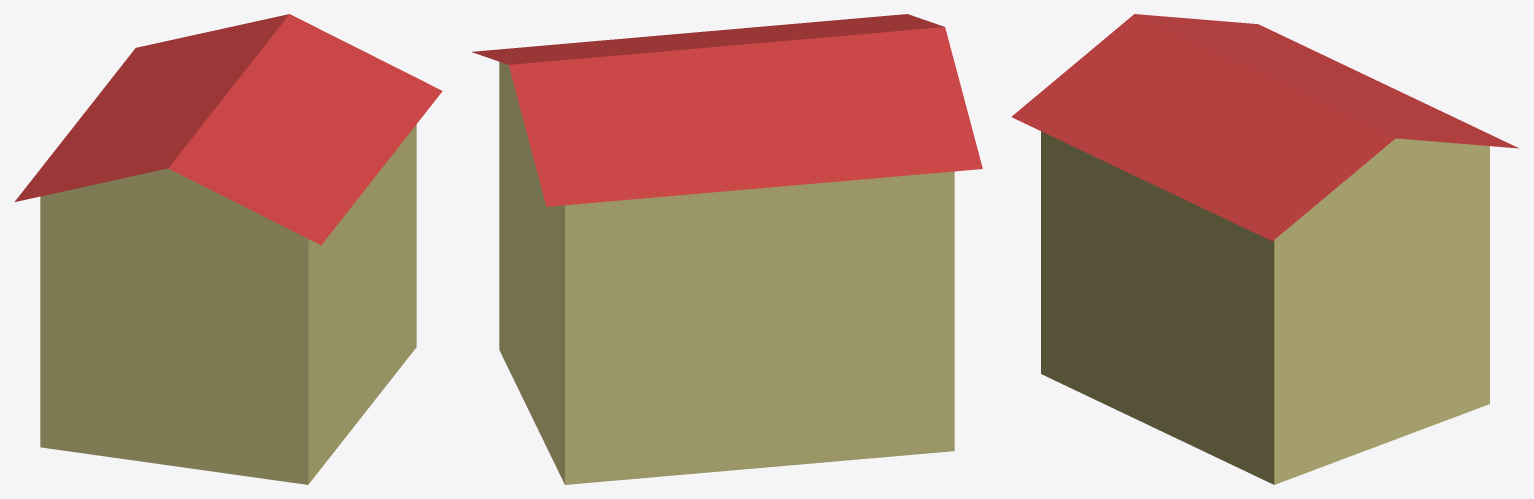
3 renders of one model, left to right at view 1: azimuth 30°, elevation 25°; view 2: azimuth 150°, elevation 25°; view 3: azimuth 270°, elevation 25°, orthographic. The views are drawn at different scales.
Visible parts, largest first — view 1: group_5, group_3, group_4; view 2: group_5, group_3, group_4; view 3: group_5, group_3, group_4.
Boxes of the visible parts, x1,y1,x2,y2 form: group_5: [40, 124, 416, 484]; group_3: [15, 14, 442, 244]; group_4: [168, 14, 441, 244]; group_5: [499, 62, 954, 484]; group_3: [472, 14, 982, 206]; group_4: [479, 14, 953, 206]; group_5: [1041, 131, 1489, 484]; group_3: [1041, 14, 1519, 241]; group_4: [1011, 14, 1395, 240].
Bounding box in the file's own units: 18.31 × 18.12 × 12.3.
